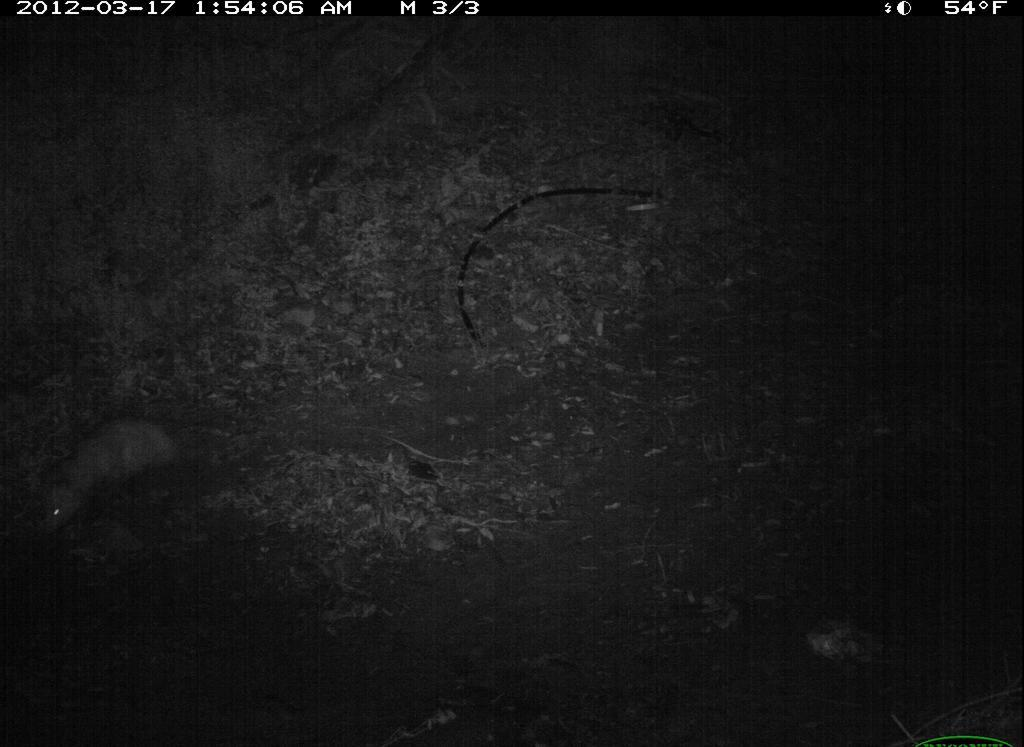opossum: (26, 405, 253, 550)
